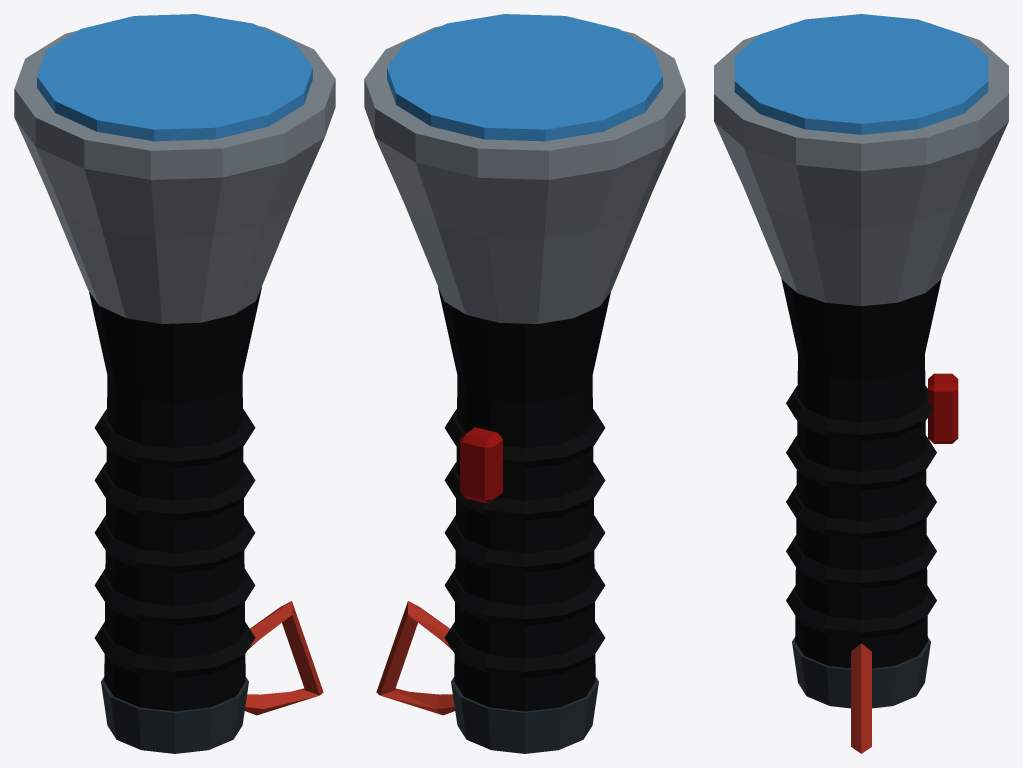
File: ACCESSORY_08_Flashlight.obj
3 renders of one model, left to right at view 1: azimuth 30°, elevation 25°; view 2: azimuth 150°, elevation 25°; view 3: azimuth 270°, elevation 25°, orthographic. The views are drawn at different scales.
Parts seen in each view (by area): view 1: ACCESSORY_08_Flashlight_Head, ACCESSORY_08_Flashlight_Body, ACCESSORY_08_Flashlight_Lens, ACCESSORY_08_Flashlight_Grip_Rings, ACCESSORY_08_Flashlight_Tail_Cap, ACCESSORY_08_Flashlight_Lanyard; view 2: ACCESSORY_08_Flashlight_Head, ACCESSORY_08_Flashlight_Body, ACCESSORY_08_Flashlight_Lens, ACCESSORY_08_Flashlight_Grip_Rings, ACCESSORY_08_Flashlight_Tail_Cap, ACCESSORY_08_Flashlight_Lanyard, ACCESSORY_08_Flashlight_Switch; view 3: ACCESSORY_08_Flashlight_Head, ACCESSORY_08_Flashlight_Body, ACCESSORY_08_Flashlight_Lens, ACCESSORY_08_Flashlight_Grip_Rings, ACCESSORY_08_Flashlight_Tail_Cap, ACCESSORY_08_Flashlight_Lanyard, ACCESSORY_08_Flashlight_Switch.
Part boxes in pixels (x1,y1,x2,y2): ACCESSORY_08_Flashlight_Head: [14, 26, 335, 323]; ACCESSORY_08_Flashlight_Body: [89, 287, 261, 711]; ACCESSORY_08_Flashlight_Lens: [37, 14, 312, 141]; ACCESSORY_08_Flashlight_Grip_Rings: [94, 409, 255, 678]; ACCESSORY_08_Flashlight_Tail_Cap: [101, 677, 248, 753]; ACCESSORY_08_Flashlight_Lanyard: [244, 601, 323, 715]; ACCESSORY_08_Flashlight_Head: [364, 26, 685, 323]; ACCESSORY_08_Flashlight_Body: [438, 287, 610, 711]; ACCESSORY_08_Flashlight_Lens: [387, 14, 662, 141]; ACCESSORY_08_Flashlight_Grip_Rings: [444, 409, 605, 678]; ACCESSORY_08_Flashlight_Tail_Cap: [451, 677, 598, 753]; ACCESSORY_08_Flashlight_Lanyard: [376, 601, 455, 715]; ACCESSORY_08_Flashlight_Switch: [460, 427, 502, 503]; ACCESSORY_08_Flashlight_Head: [714, 22, 1008, 306]; ACCESSORY_08_Flashlight_Body: [781, 278, 941, 668]; ACCESSORY_08_Flashlight_Lens: [734, 14, 988, 134]; ACCESSORY_08_Flashlight_Grip_Rings: [786, 386, 936, 638]; ACCESSORY_08_Flashlight_Tail_Cap: [792, 637, 930, 708]; ACCESSORY_08_Flashlight_Lanyard: [851, 643, 871, 753]; ACCESSORY_08_Flashlight_Switch: [928, 373, 958, 443].
Size of the model in its own units: 0.1033 by 0.2274 by 0.0975.
